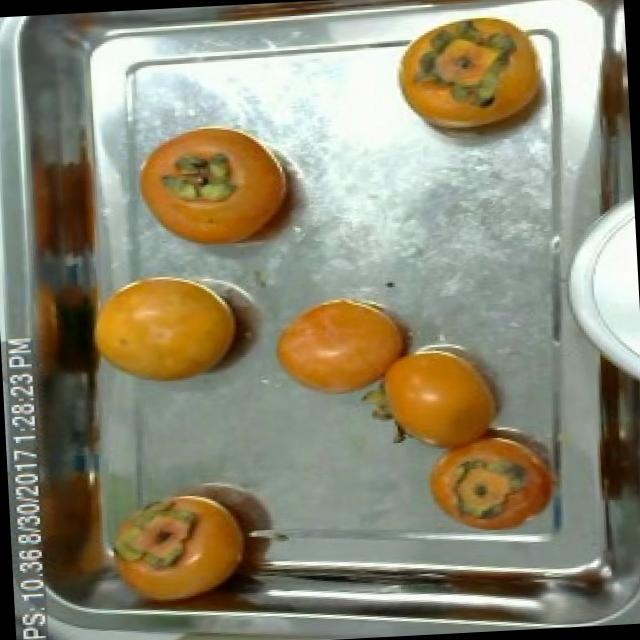Fruit: (383, 12, 584, 152), (129, 115, 304, 258), (88, 472, 265, 608), (77, 264, 254, 398), (412, 409, 575, 547), (262, 288, 432, 411), (368, 334, 520, 461), (569, 339, 640, 515)
